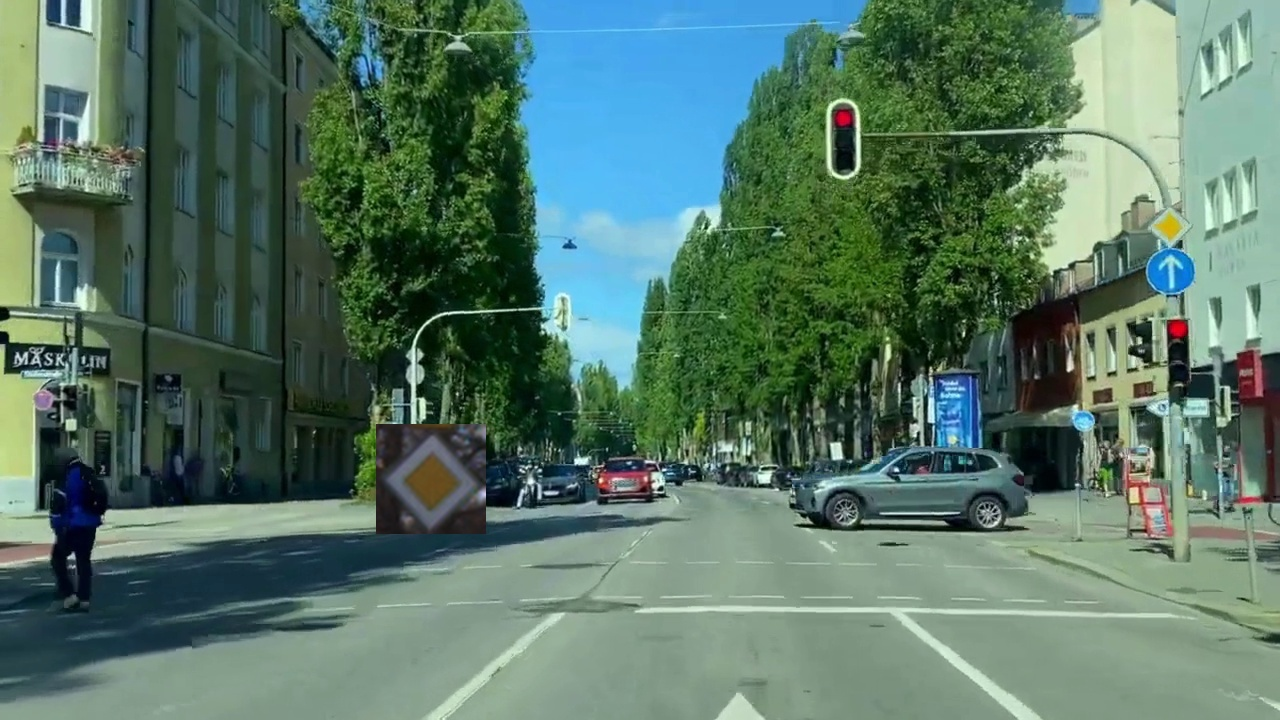Priority road: (376, 424, 486, 534)
